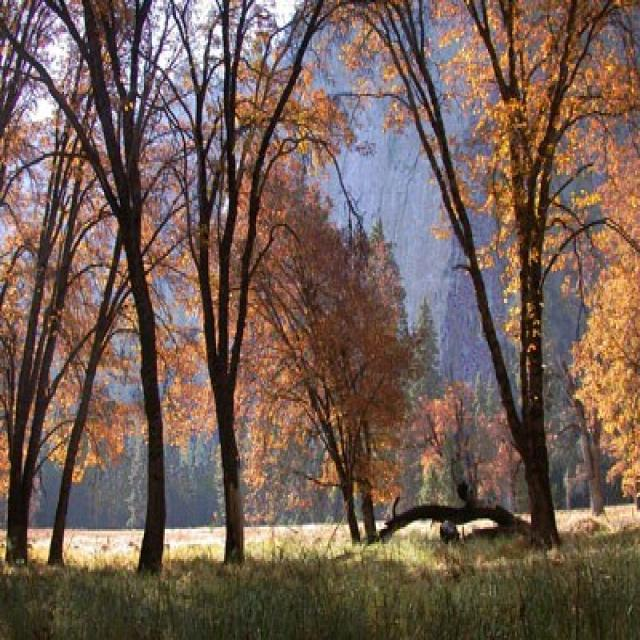Quercus kelloggii: (359, 0, 616, 535), (11, 0, 189, 578), (232, 163, 419, 544)
